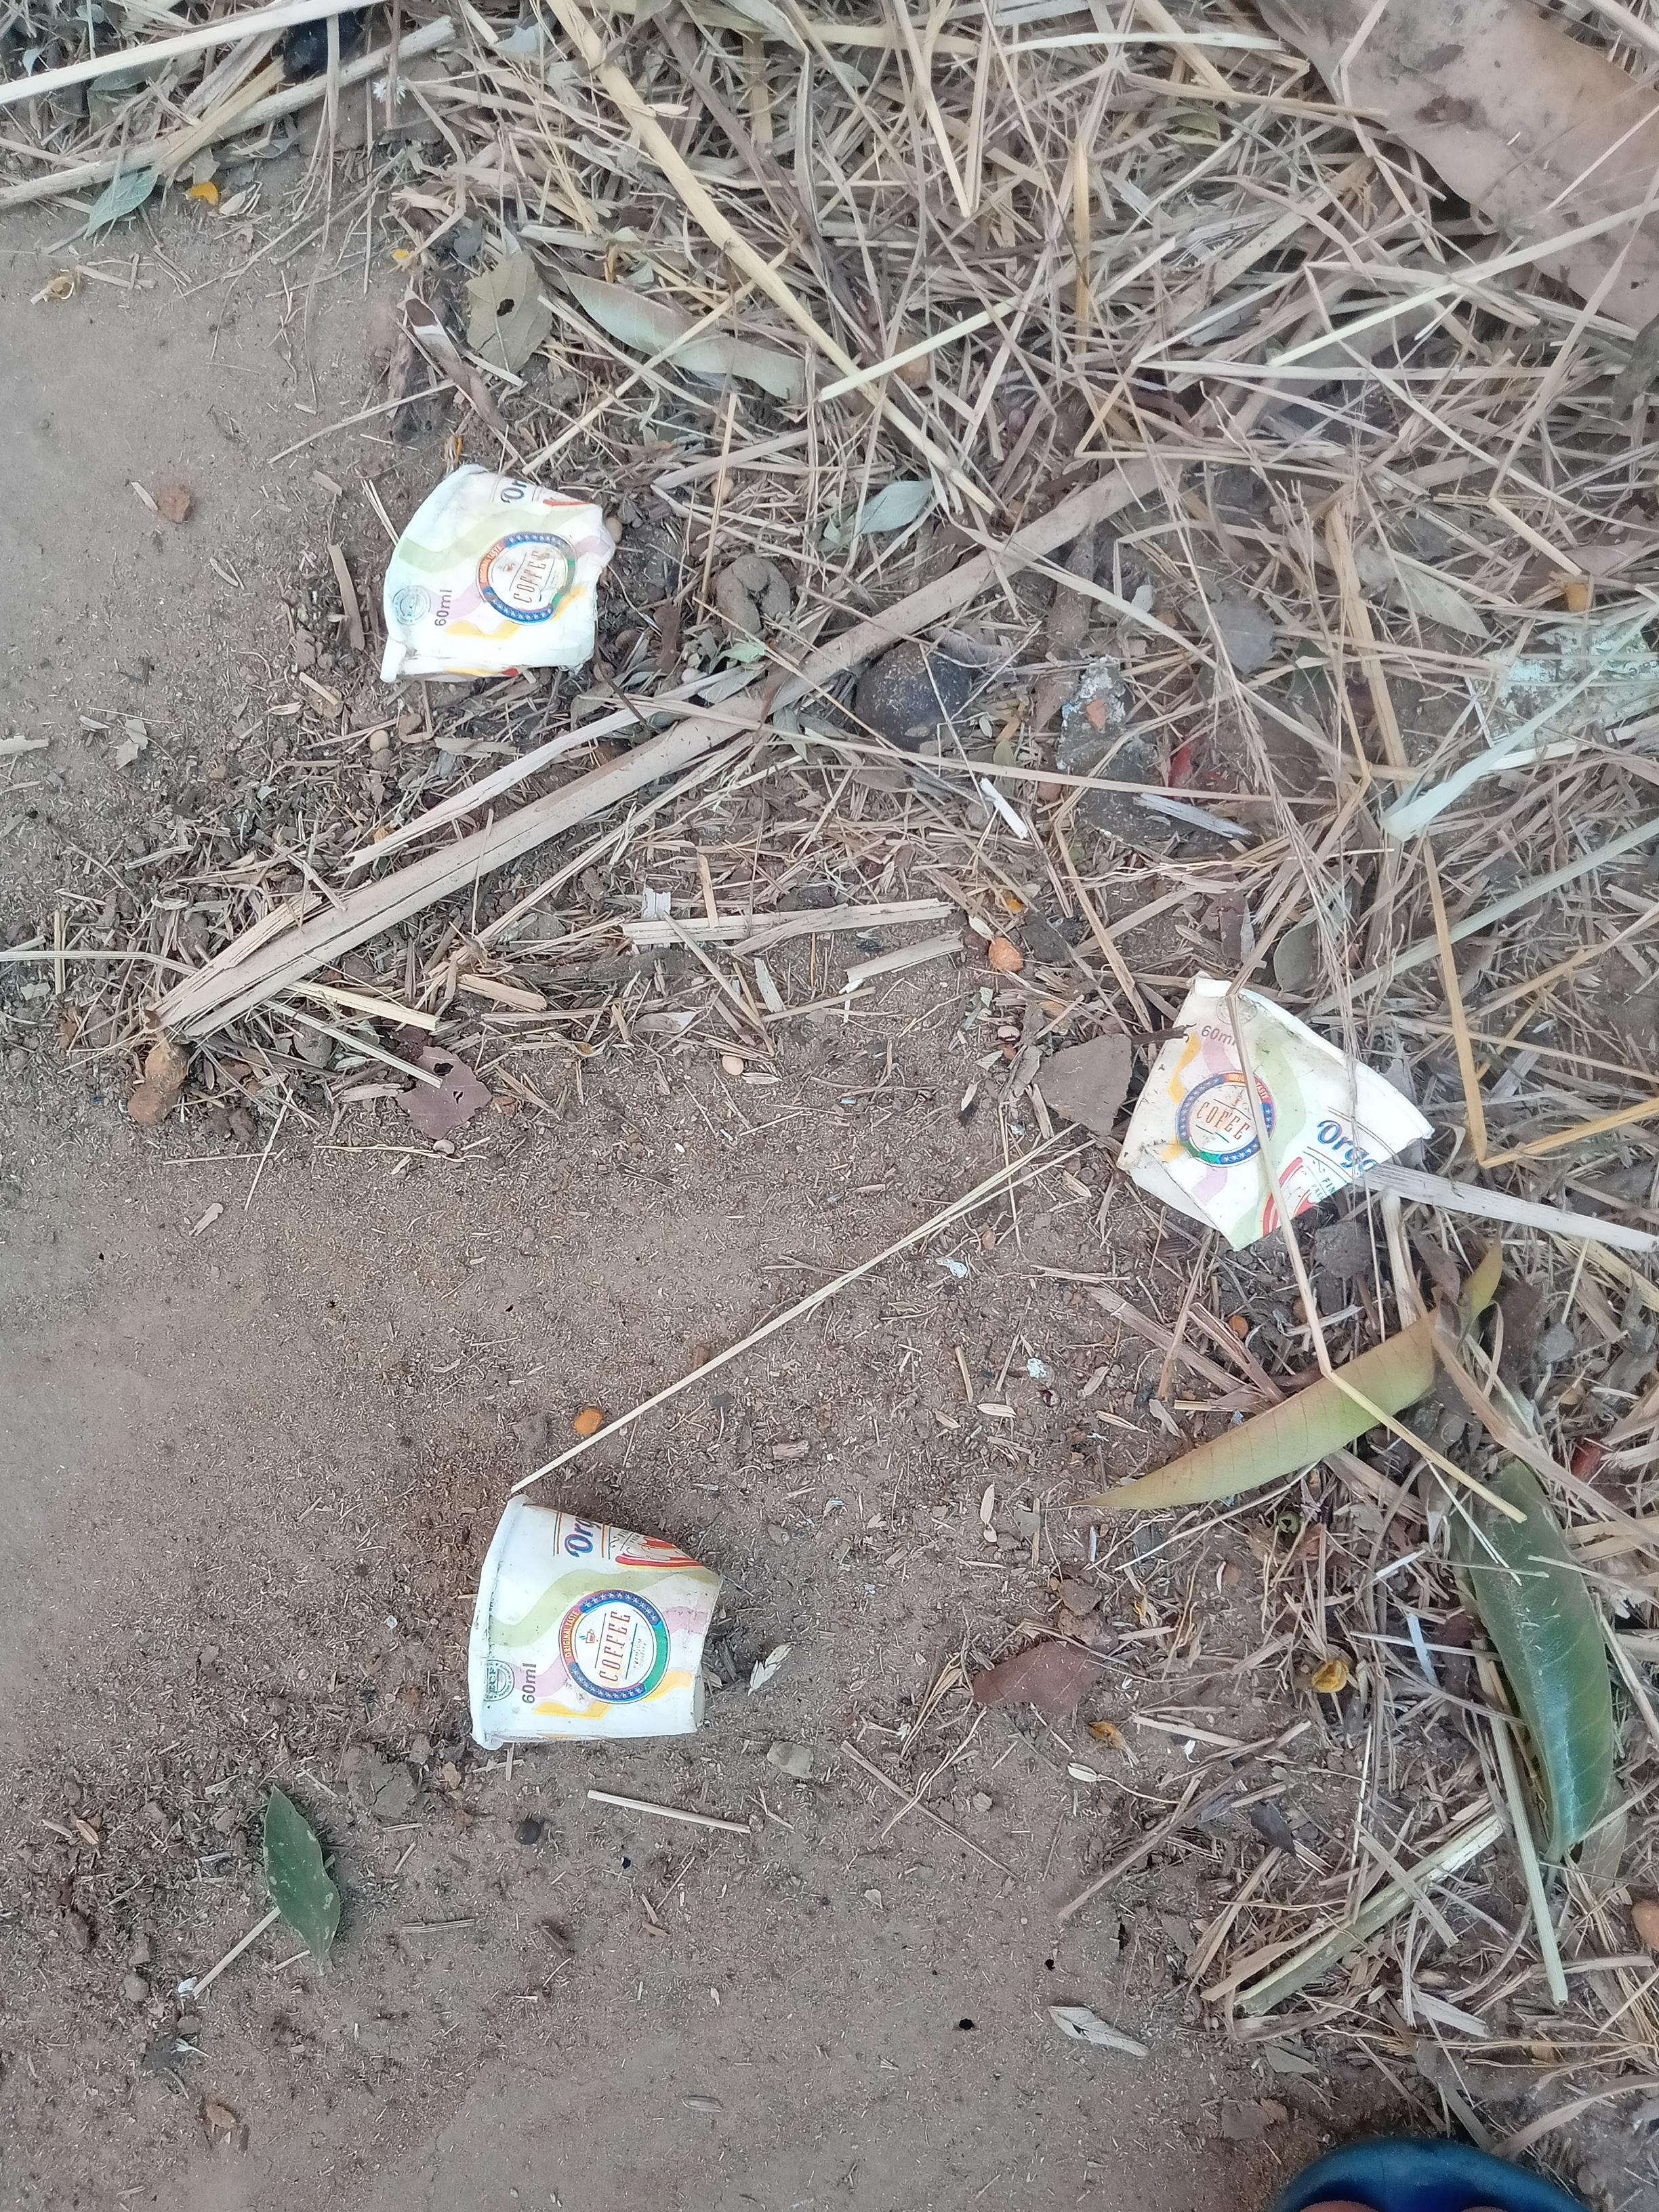trash: (356, 447, 1451, 1759)
